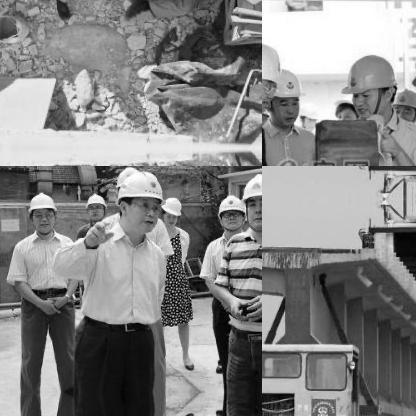Helmet: (341, 48, 393, 116), (117, 171, 163, 233), (266, 67, 302, 123), (262, 37, 282, 113), (23, 190, 57, 234), (239, 170, 261, 233), (214, 190, 246, 230), (326, 88, 356, 124), (296, 98, 323, 134), (82, 190, 110, 221), (393, 88, 415, 126), (158, 194, 184, 226)
